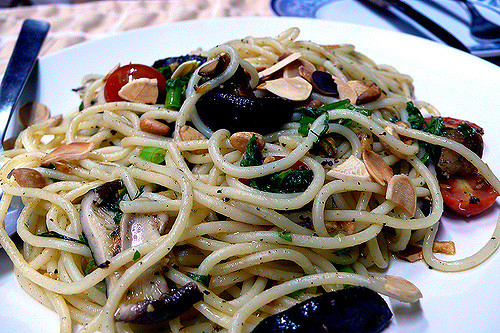plain spaghetti: (10, 76, 495, 321)
